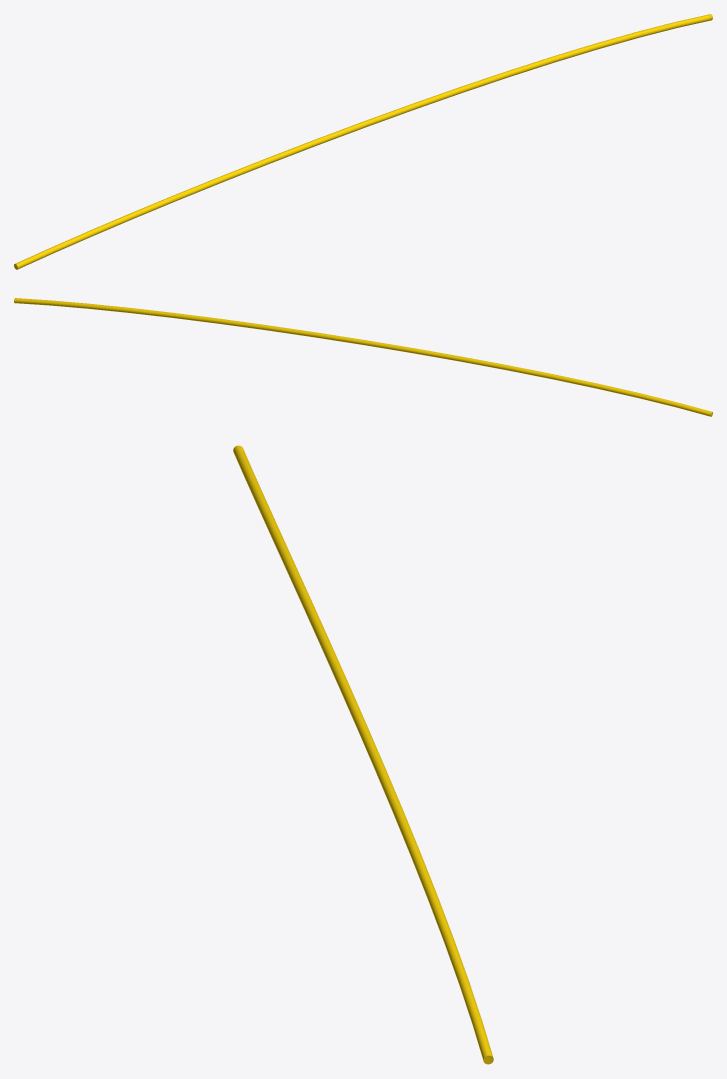
Rendered from Event_421364160_track_67.fbx.
3 renders of one model, top to bottom at view 1: azimuth 30°, elevation 25°; view 2: azimuth 150°, elevation 25°; view 3: azimuth 270°, elevation 25°, orthographic. The views are drawn at different scales.
Parts seen in each view (by area): view 1: Model; view 2: Model; view 3: Model.
Part boxes in pixels (x1,y1,x2,y2): Model: (14,14,712,269); Model: (14,298,712,416); Model: (233,445,493,1064).
Size of the model in its own units: 5.63 by 0.1862 by 0.9992.
